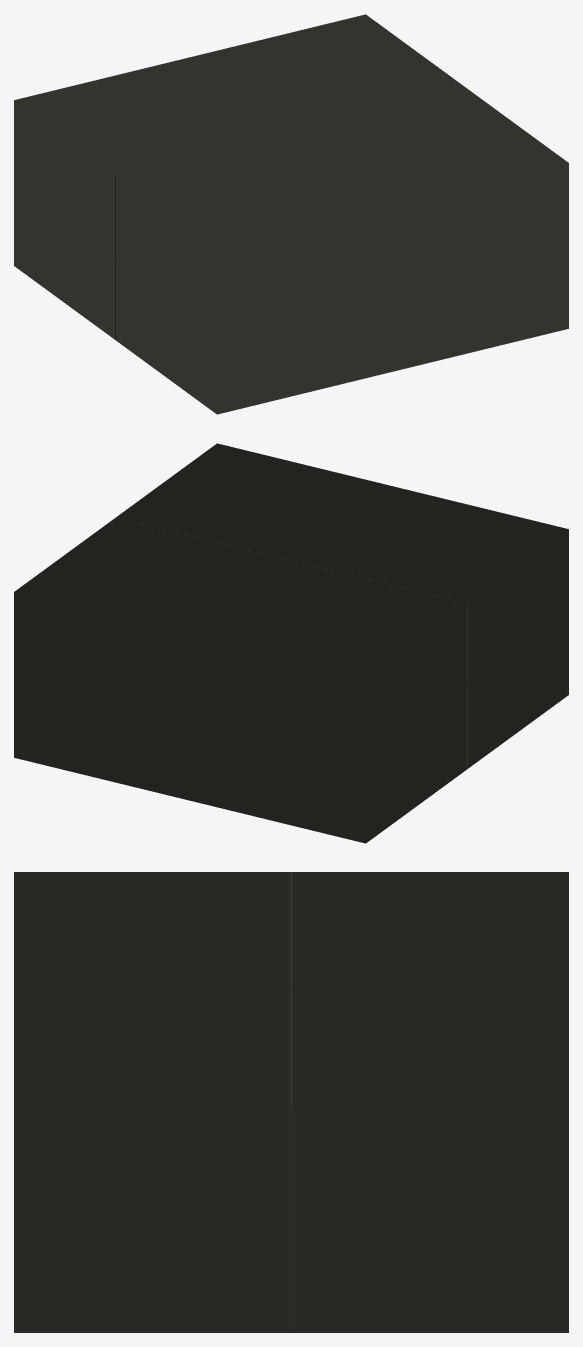
File: env_bldg_comms_bunker_a.glb
3 views of the same model, one above another, from view 1: azimuth 30°, elevation 25°; view 2: azimuth 150°, elevation 25°; view 3: azimuth 270°, elevation 25° (orthographic). The views are drawn at different scales.
Parts seen in each view (by area): view 1: env_bldg_comms_bunker_a; view 2: env_bldg_comms_bunker_a; view 3: env_bldg_comms_bunker_a.
Boxes of the visible parts, <box> form: env_bldg_comms_bunker_a: <box>14,14,568,414</box>; env_bldg_comms_bunker_a: <box>14,443,568,843</box>; env_bldg_comms_bunker_a: <box>14,872,568,1332</box>.
Bounding box in the file's own units: 10 × 4.82 × 10.
1 material, 1 textured.
